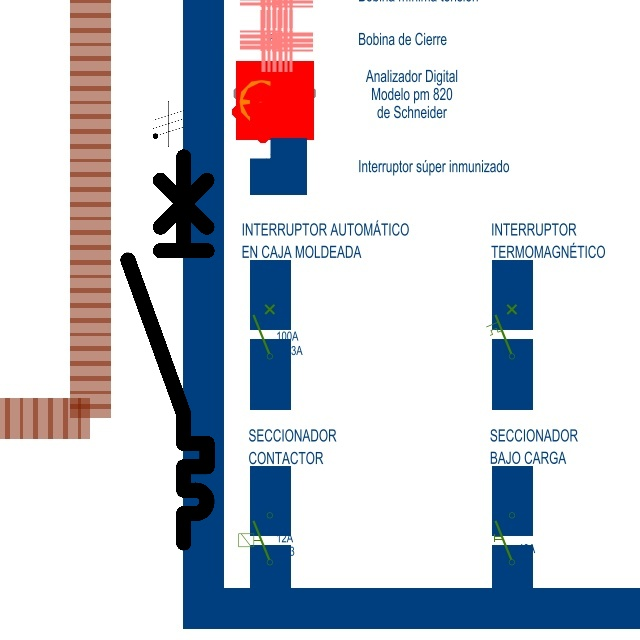interruptor_termomagnetico: (118, 146, 217, 552)
